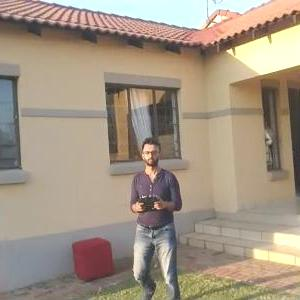follow: (118, 134, 181, 298)
